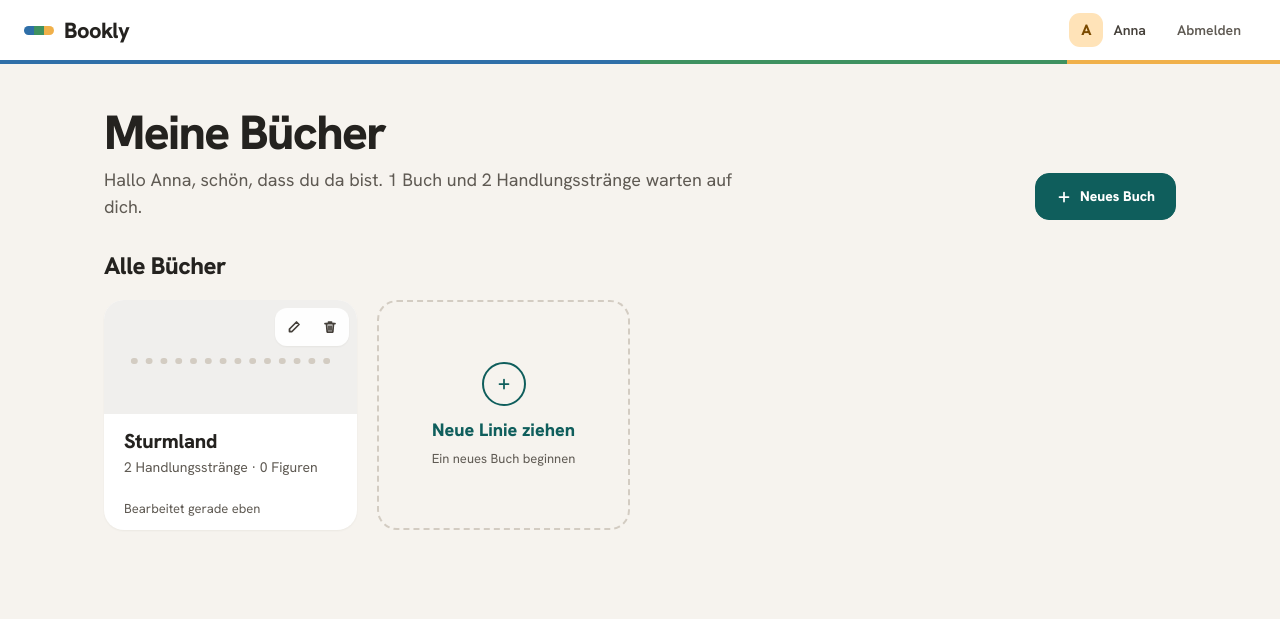
Test case: BookListPage › shows a generic alert when renaming fails
The width and height of the screenshot is (1280, 619).
Click the button named "Buch „Sturmland“ umbenennen".
click(294, 327)  # box x1=277 y1=310 x2=311 y2=344
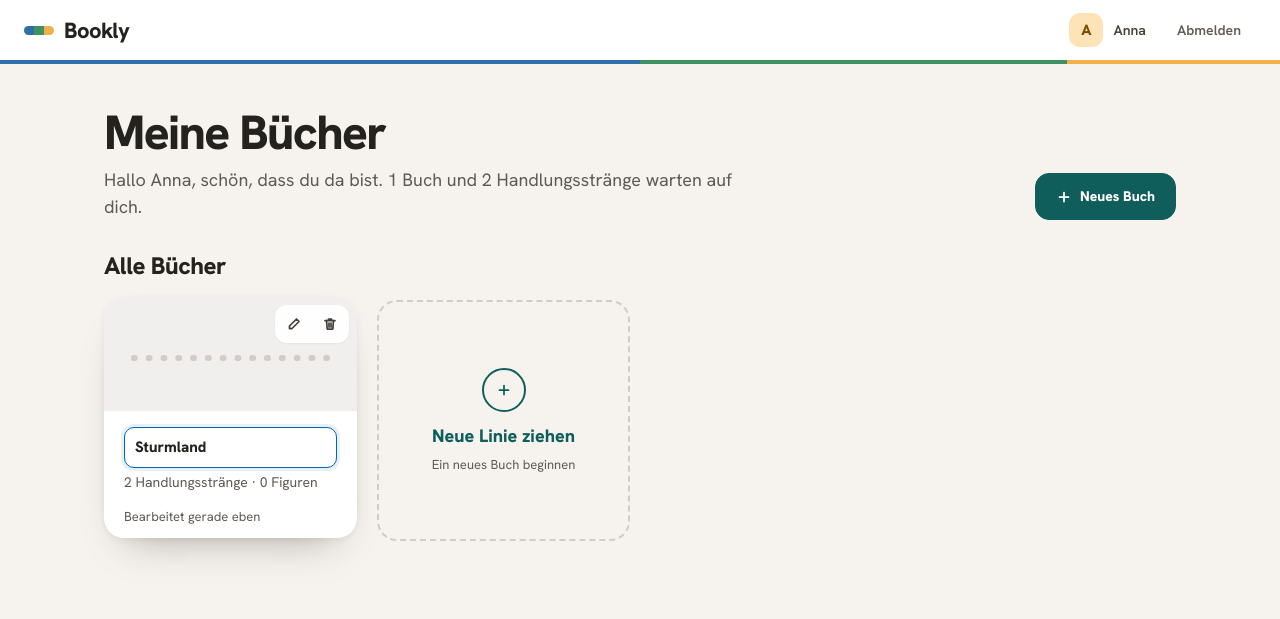
Replace the text in the field named "Titel Buch Sturmland" with "X" at (230, 448), box x1=124 y1=427 x2=337 y2=468
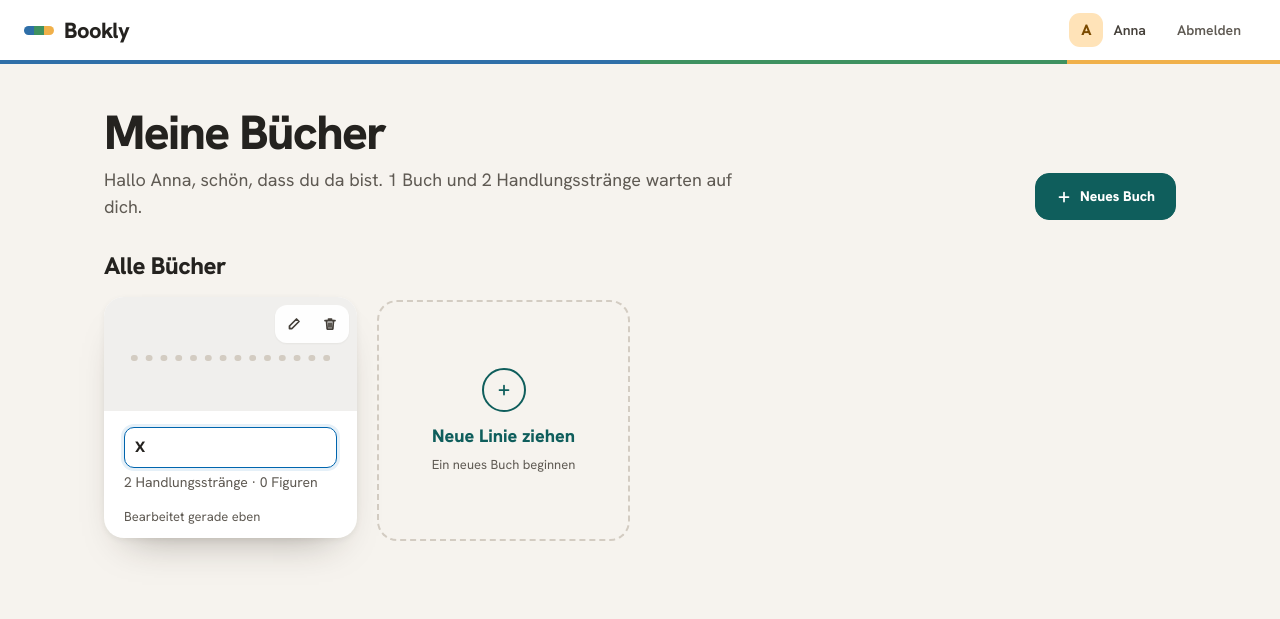
Press Tab
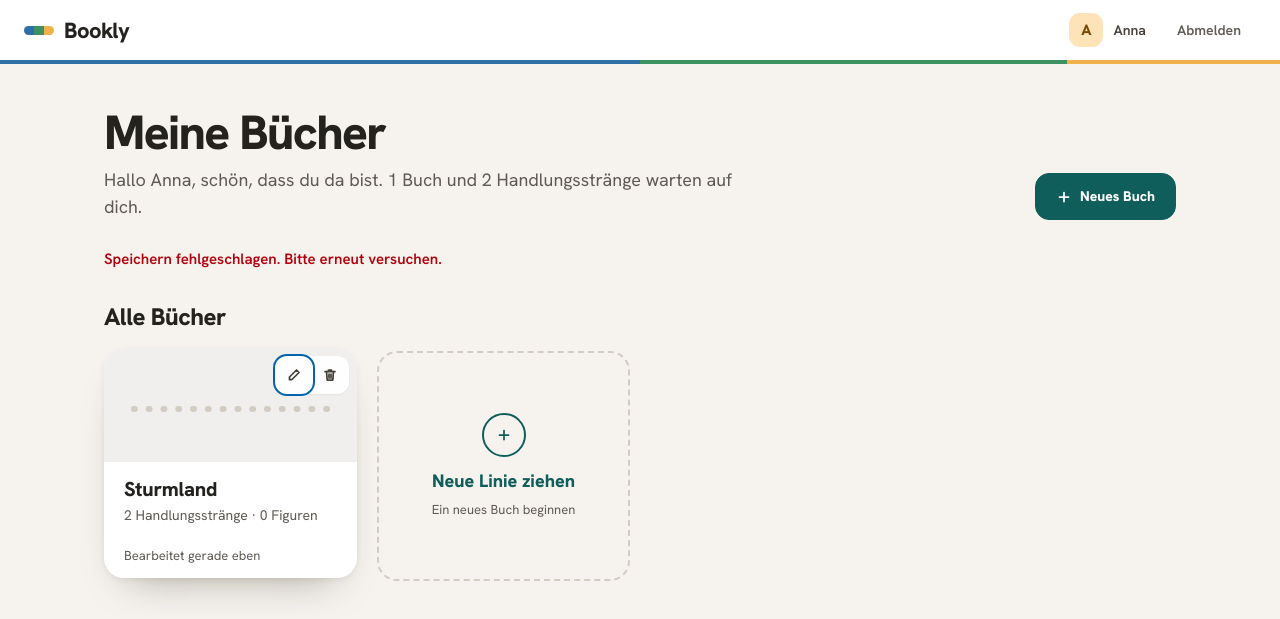
Result: the text "Speichern fehlgeschlagen. Bitte erneut versuchen." is shown at x1=104 y1=249 x2=442 y2=269
